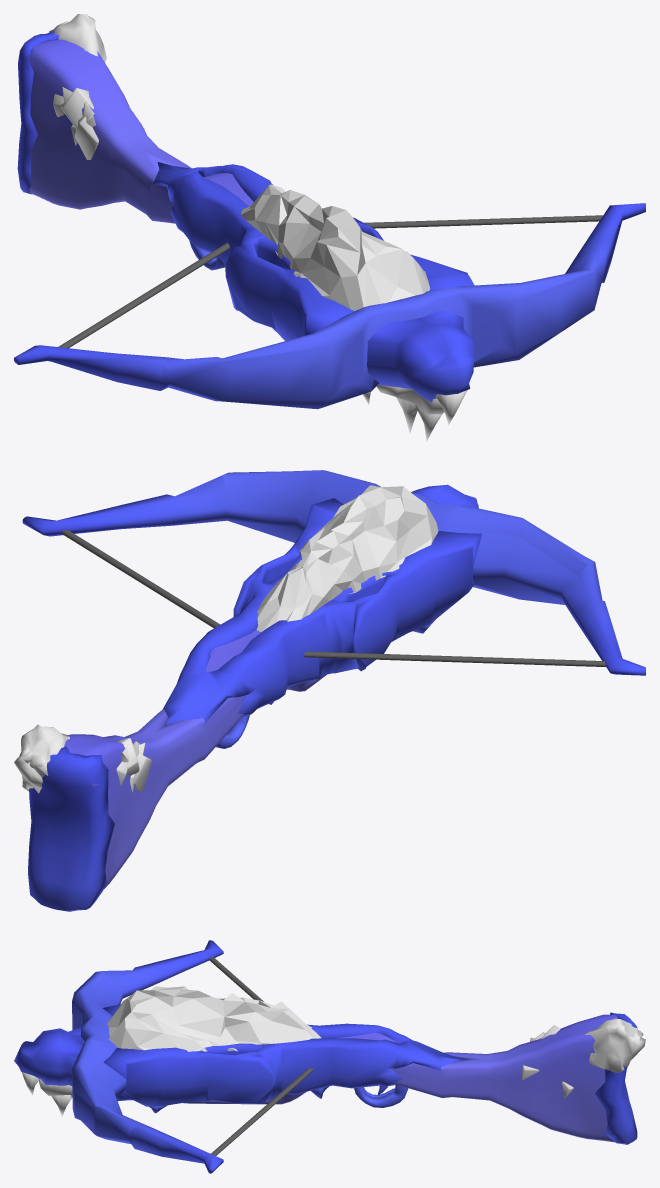
The model's file is crossbowice.fbx.
The picture shows the model from 3 angles, top to bottom: view 1: azimuth 30°, elevation 25°; view 2: azimuth 150°, elevation 25°; view 3: azimuth 270°, elevation 25°; orthographic projection. The views are drawn at different scales.
Visible parts, largest first — view 1: Main Body, Arms, Ammo, IceSpots, Bow String, StockCover; view 2: Main Body, Arms, Ammo, StockCover, Bow String, IceSpots; view 3: Main Body, Arms, Ammo, IceSpots, StockCover, Bow String.
Part boxes in pixels (<box>): Main Body: <box>18,39,474,402</box>; Arms: <box>14,203,645,409</box>; Ammo: <box>240,184,430,310</box>; IceSpots: <box>49,14,467,441</box>; Bow String: <box>58,215,602,348</box>; StockCover: <box>17,31,58,194</box>; Main Body: <box>64,484,481,888</box>; Arms: <box>22,470,645,675</box>; Ammo: <box>256,485,438,632</box>; StockCover: <box>28,746,114,911</box>; Bow String: <box>61,530,605,666</box>; IceSpots: <box>14,724,151,793</box>; Main Body: <box>14,1004,626,1144</box>; Arms: <box>72,940,223,1173</box>; Ammo: <box>107,986,321,1051</box>; IceSpots: <box>21,1018,645,1116</box>; StockCover: <box>595,1012,643,1144</box>; Bow String: <box>209,956,313,1155</box>.
Size of the model in its own units: 897 by 270 by 1047.
